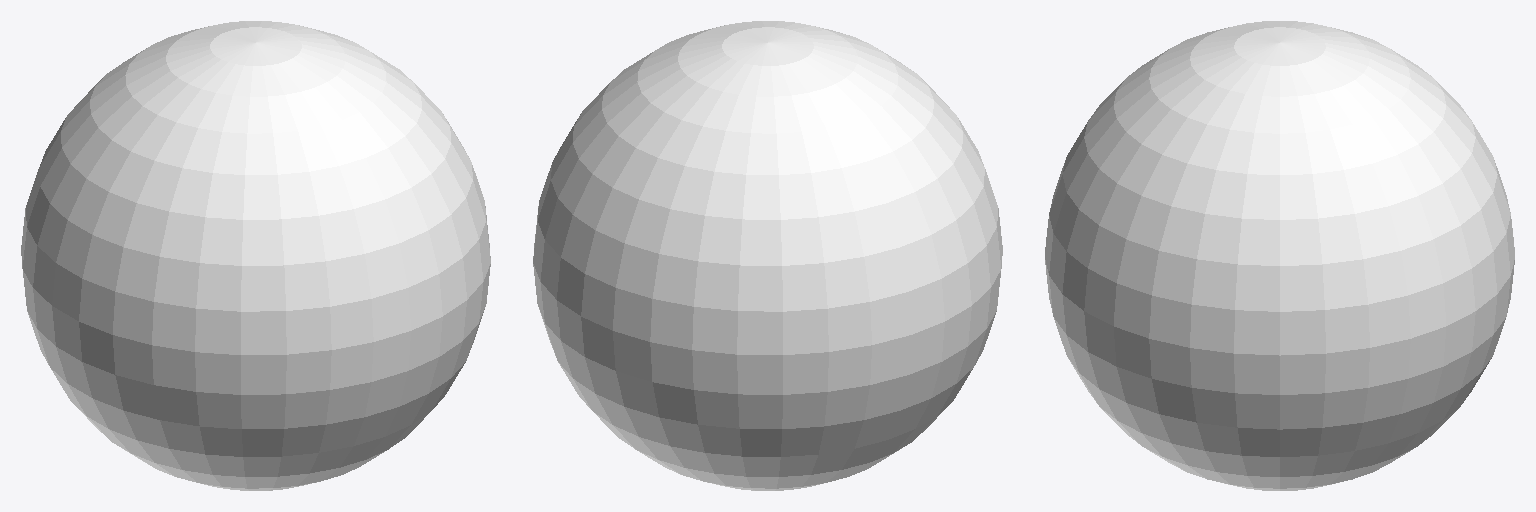
3 renders of one model, left to right at view 1: azimuth 30°, elevation 25°; view 2: azimuth 150°, elevation 25°; view 3: azimuth 270°, elevation 25°, orthographic.
Visible parts, largest first — view 1: 球; view 2: 球; view 3: 球.
Boxes of the visible parts, x1=… form: 球: x1=21, y1=21, x2=490, y2=490; 球: x1=533, y1=21, x2=1002, y2=490; 球: x1=1045, y1=21, x2=1514, y2=490.
Size of the model in its own units: 2 by 2 by 2.
1 materials, 1 textured.